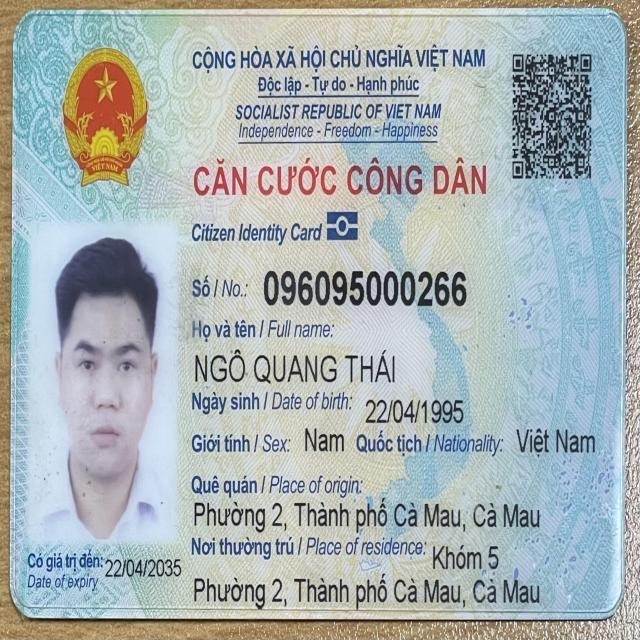current_place: (190, 566, 543, 608), (429, 540, 503, 575)
dob: (360, 391, 467, 430)
expire_date: (105, 553, 184, 579)
gender: (299, 416, 348, 457)
id: (259, 258, 469, 311)
name: (187, 340, 403, 391)
nationality: (512, 415, 600, 465)
origin_place: (190, 497, 544, 532)
